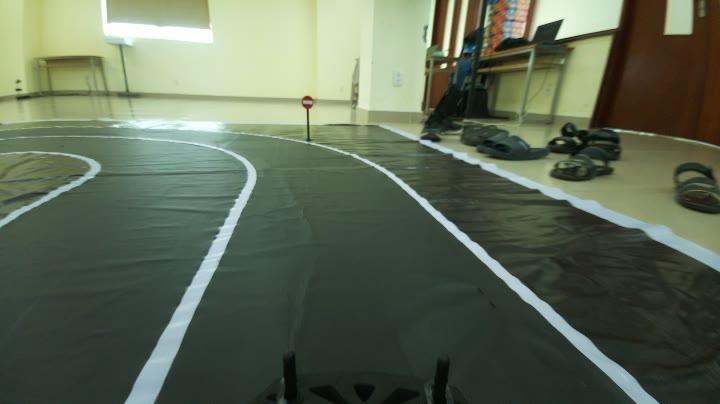no_entry: (298, 91, 320, 112)
